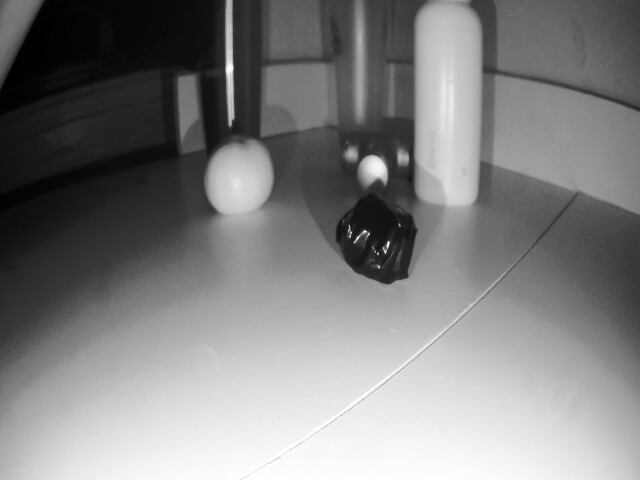black: (336, 185, 415, 291)
